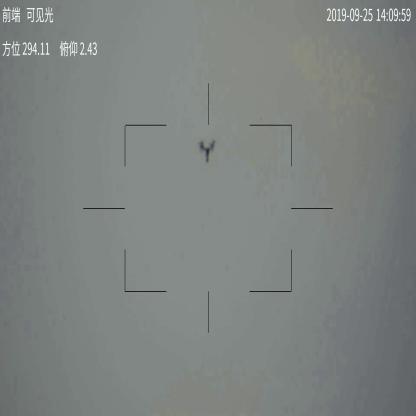uav: (198, 135, 216, 162)
